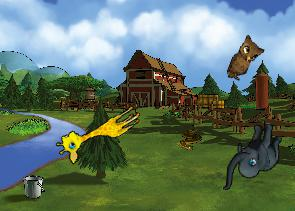elephant: (222, 120, 282, 193)
giraffe: (52, 94, 144, 167)
owl: (225, 33, 267, 86)
